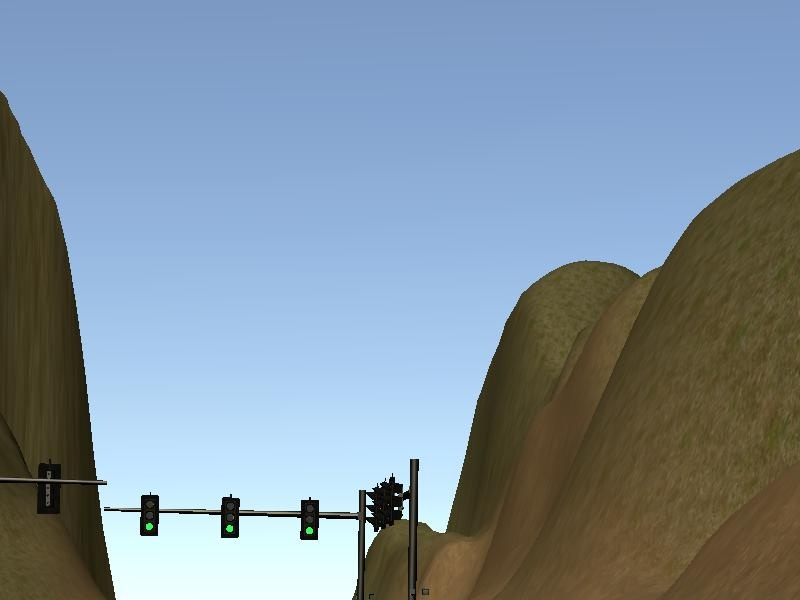green: (138, 493, 160, 535), (220, 498, 239, 536), (301, 500, 318, 540)
